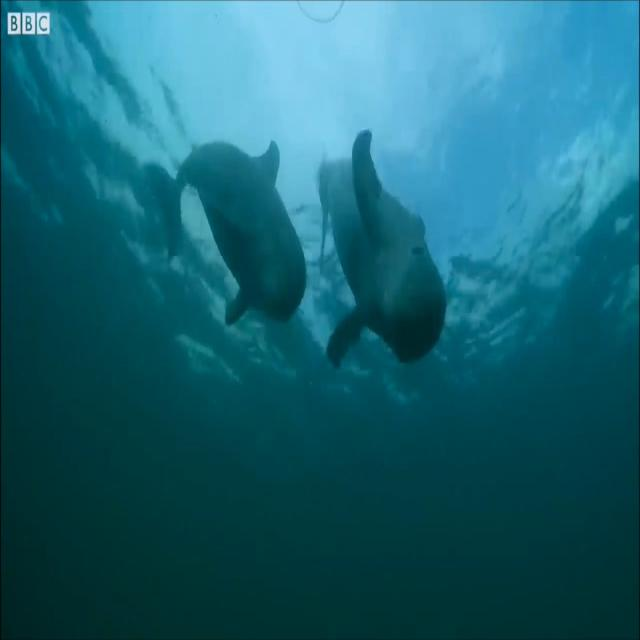Dolphin: (320, 128, 447, 372), (147, 137, 307, 327)
